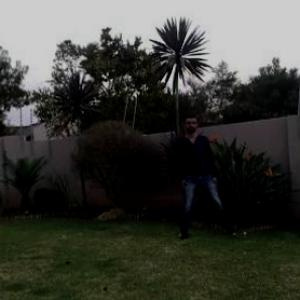follow: (174, 107, 212, 235)
